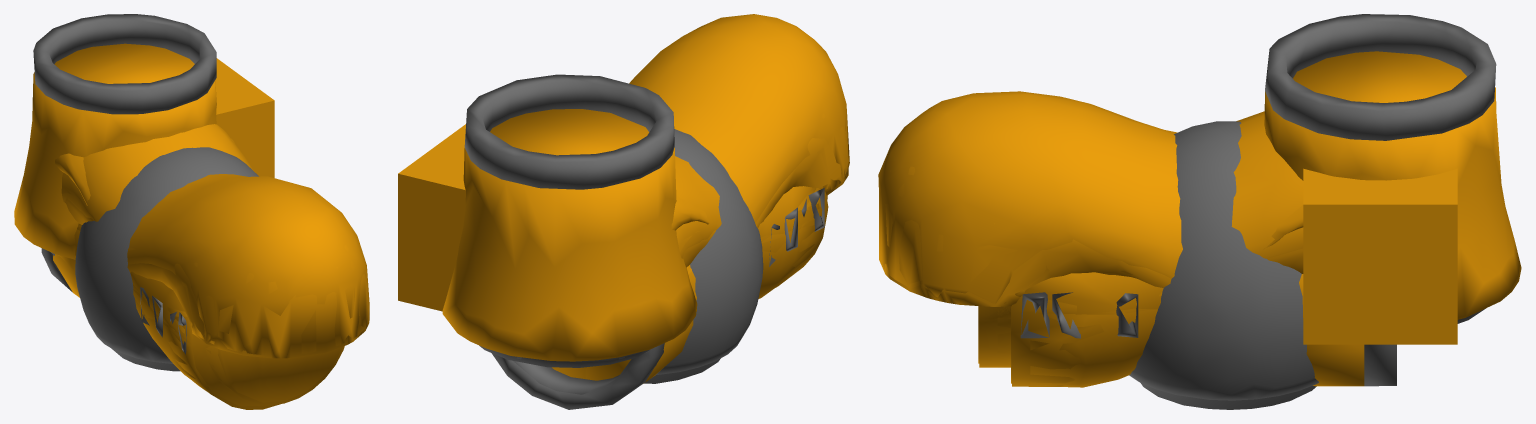
The model's file is kuka_lwr.dae.
The picture shows the model from 3 angles, left to right: view 1: azimuth 30°, elevation 25°; view 2: azimuth 150°, elevation 25°; view 3: azimuth 270°, elevation 25°; orthographic projection. The views are drawn at different scales.
Parts seen in each view (by area): view 1: kuka_base, kuka_2, kuka_3, kuka_6, kuka_4, kuka_1, kuka_5; view 2: kuka_base, kuka_2, kuka_6, kuka_4, kuka_3, kuka_1, kuka_5; view 3: kuka_base, kuka_2, kuka_6, kuka_3, kuka_4, kuka_1, kuka_5.
Part boxes in pixels (bbox=[...]): kuka_base: bbox=[14, 14, 274, 259]; kuka_2: bbox=[52, 174, 369, 354]; kuka_3: bbox=[62, 124, 342, 406]; kuka_6: bbox=[75, 147, 258, 371]; kuka_4: bbox=[41, 227, 369, 358]; kuka_1: bbox=[51, 187, 344, 409]; kuka_5: bbox=[55, 138, 234, 390]; kuka_base: bbox=[398, 74, 697, 361]; kuka_2: bbox=[513, 14, 849, 394]; kuka_6: bbox=[644, 129, 763, 383]; kuka_4: bbox=[491, 71, 848, 409]; kuka_3: bbox=[517, 156, 828, 359]; kuka_1: bbox=[479, 188, 827, 367]; kuka_5: bbox=[671, 187, 819, 298]; kuka_base: bbox=[1264, 14, 1521, 344]; kuka_2: bbox=[878, 91, 1303, 317]; kuka_6: bbox=[1129, 121, 1318, 409]; kuka_3: bbox=[978, 111, 1303, 383]; kuka_4: bbox=[879, 166, 1396, 386]; kuka_1: bbox=[979, 248, 1485, 386]; kuka_5: bbox=[997, 205, 1303, 387].
Bounding box in the file's own units: 0.1627 × 0.3334 × 0.1796.
